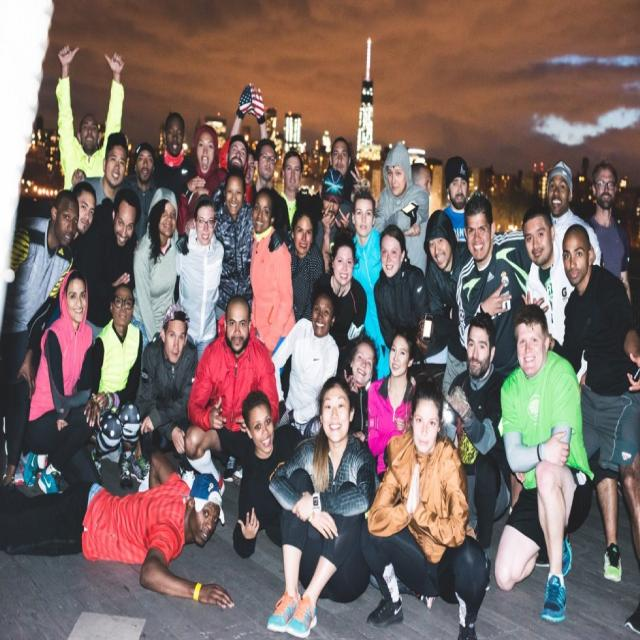body: (519, 219, 639, 638), (0, 442, 240, 614), (360, 378, 488, 640), (492, 300, 594, 626), (266, 374, 376, 640), (0, 185, 81, 496), (172, 165, 290, 343), (182, 294, 280, 501), (441, 310, 512, 593), (20, 266, 106, 496), (454, 190, 534, 387), (541, 159, 603, 387), (82, 279, 144, 492), (232, 388, 306, 562), (518, 203, 589, 384), (422, 207, 473, 451), (135, 298, 199, 476), (270, 286, 341, 440), (56, 42, 126, 192), (74, 187, 142, 330), (174, 192, 226, 362), (350, 186, 393, 382), (133, 184, 182, 353), (366, 327, 419, 483), (372, 224, 431, 363), (372, 139, 431, 278), (310, 228, 369, 365), (248, 186, 296, 354), (267, 203, 327, 328), (217, 79, 271, 210), (175, 120, 229, 238), (584, 159, 631, 283), (335, 332, 380, 450), (248, 134, 293, 242), (71, 130, 130, 210), (151, 111, 198, 203), (118, 140, 158, 242), (313, 166, 356, 252), (279, 148, 322, 228), (441, 155, 475, 243), (326, 136, 361, 200), (68, 178, 99, 244), (406, 159, 436, 211), (225, 132, 249, 178)
